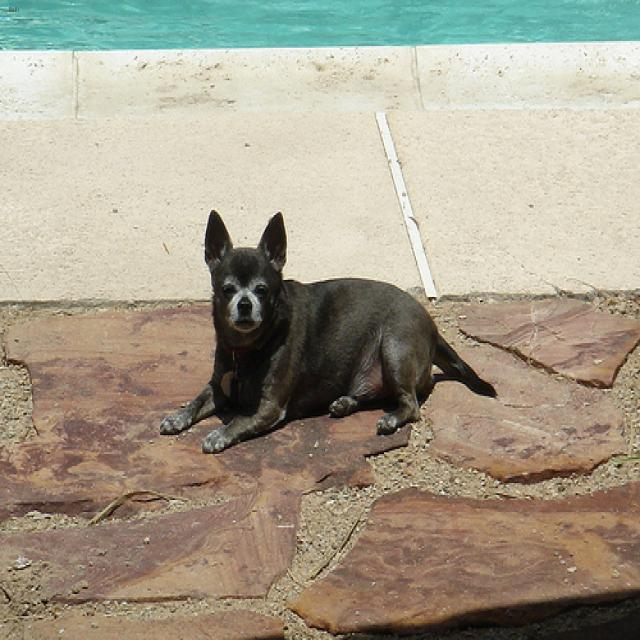dog-chihuahua: (154, 201, 506, 463)
